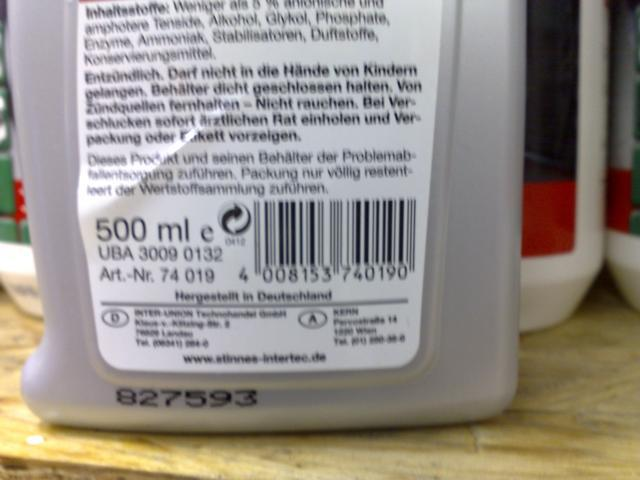Barkod: (250, 196, 414, 264)
